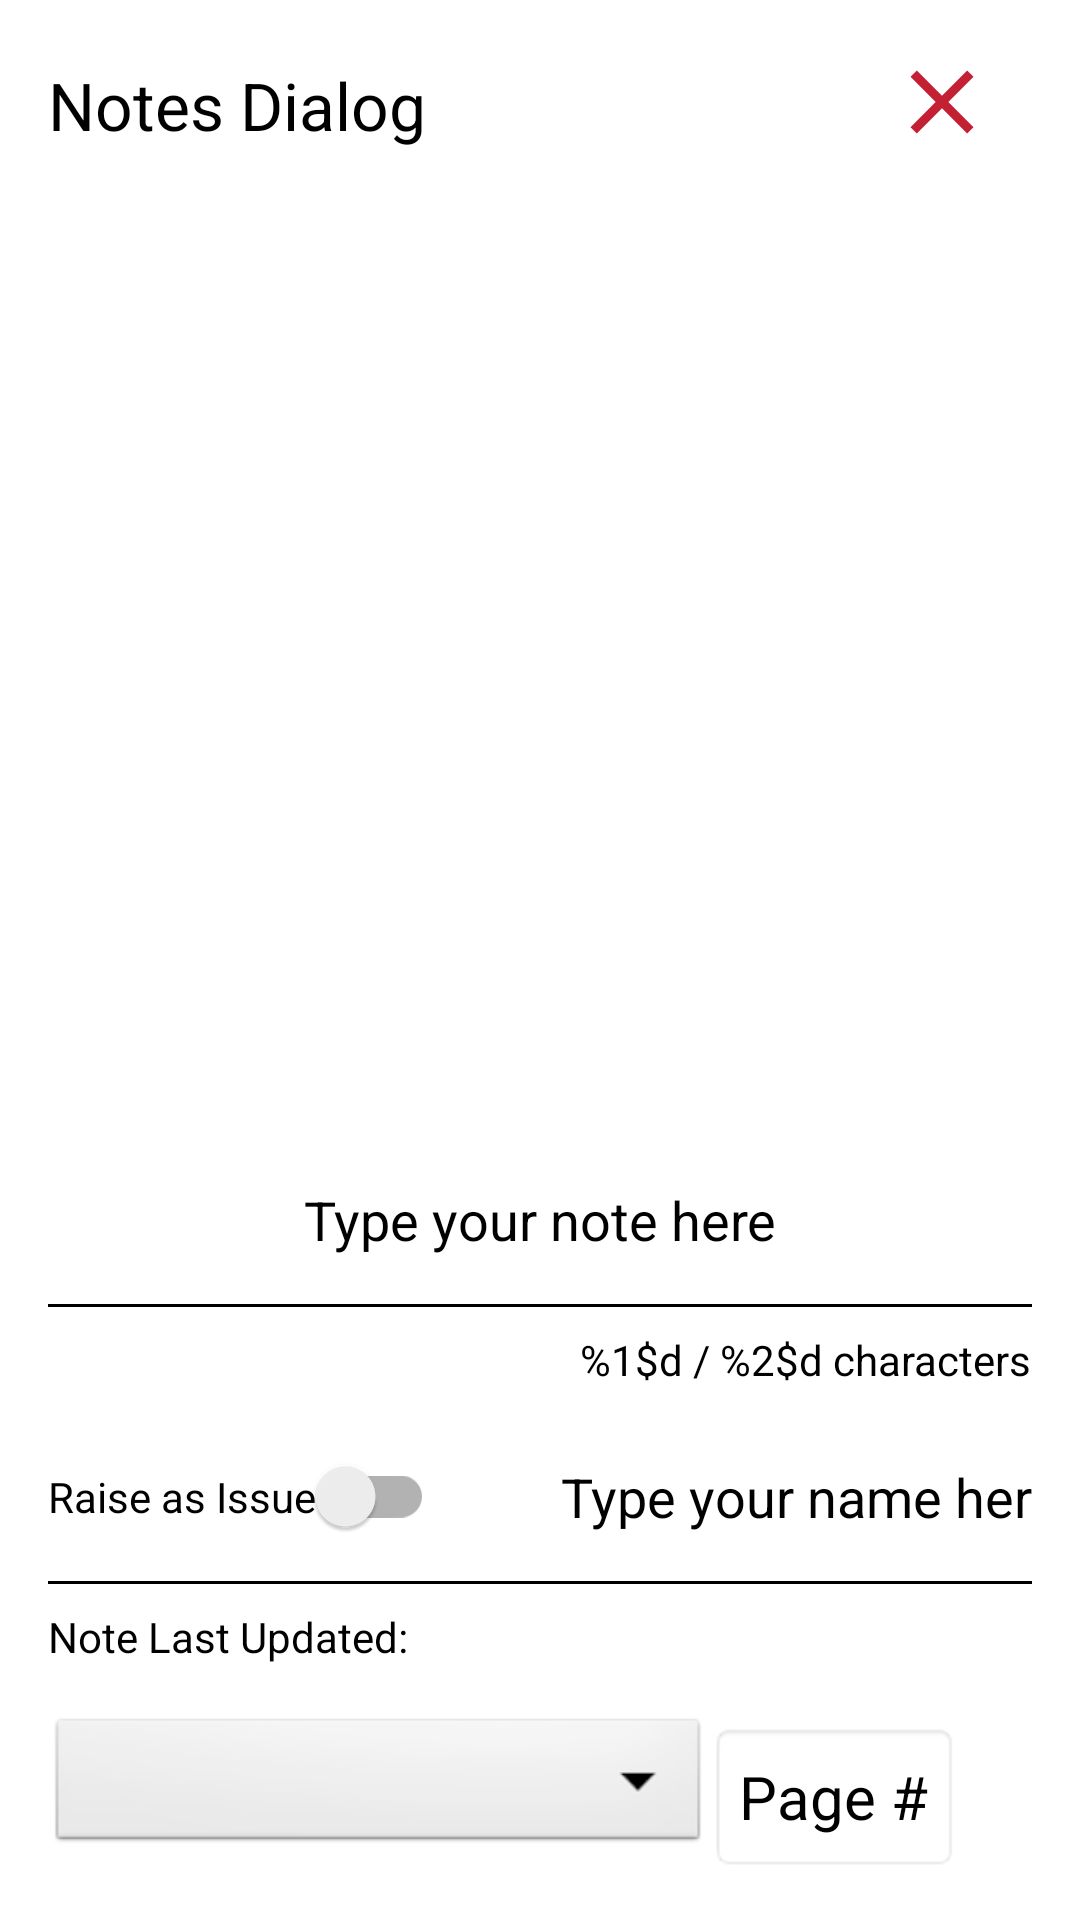

Named icons in this screenshot (1080*1920) and their centers, (x=x, y=y):
Close Dialog: (x=942, y=102)
